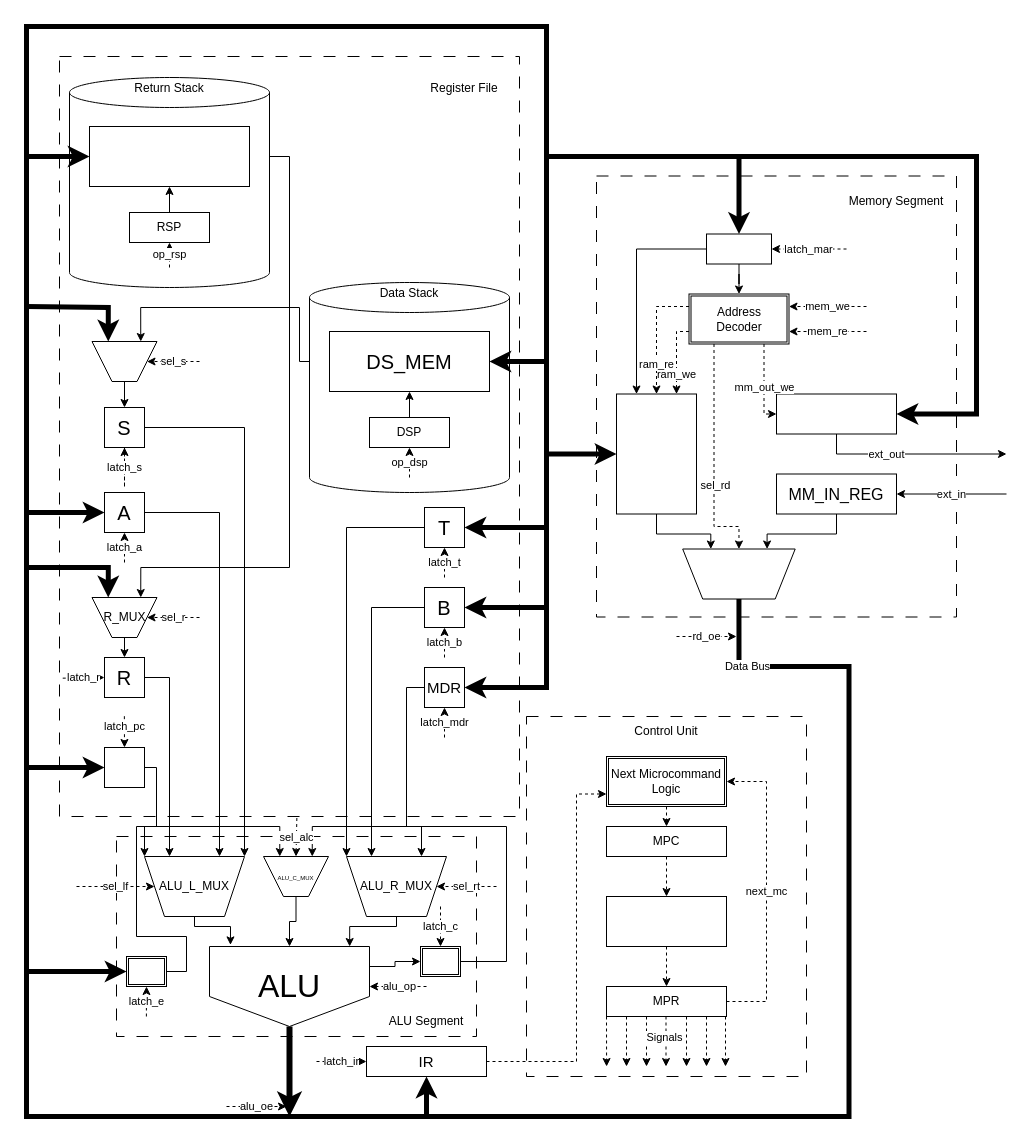
Some shapes in this 1032 by 1145 pixel diagram are drawn without their labels. The centre of each missing label's shape, as x and y in pixels:
"Carry" goes at (440,961).
"EAM" goes at (146,971).
"MAR" goes at (739,248).
"Microcode Memory" goes at (666,921).
"MM_OUT_REG" goes at (836,413).
"PC" goes at (124,767).
"RAM" goes at (656,453).
"RD_MUX" goes at (738,573).
"RS_MEM" goes at (169,156).
"S_MUX" goes at (124,361).
